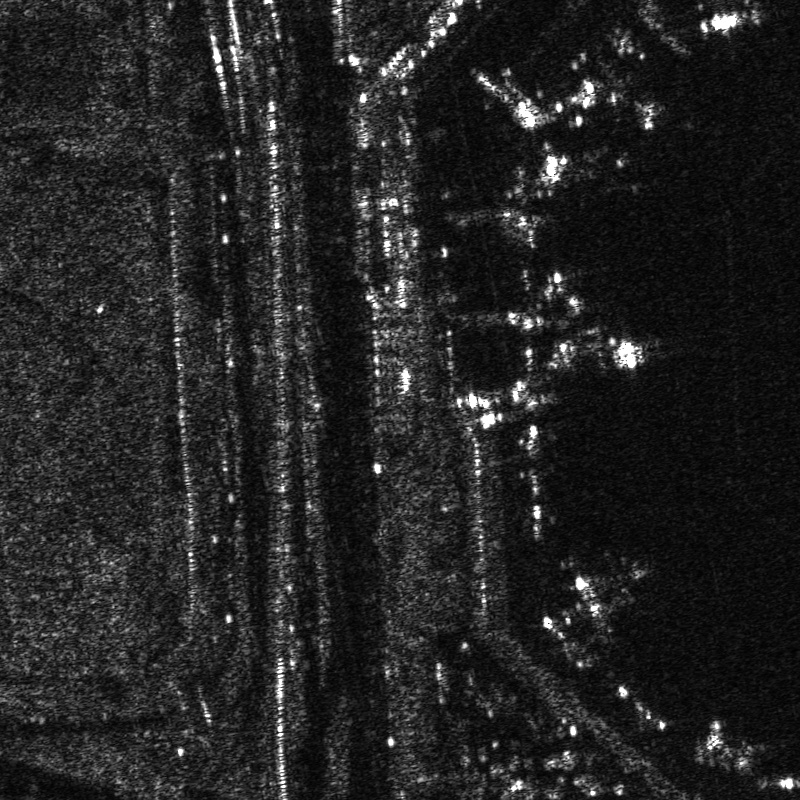A220: (561, 561, 651, 635)
